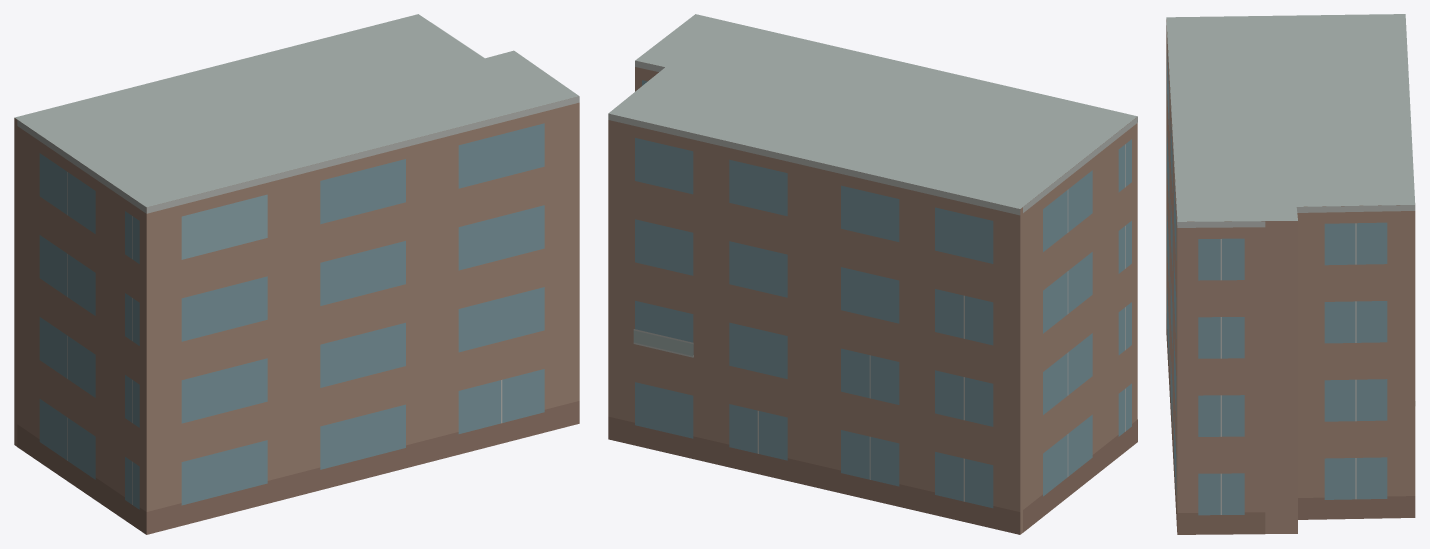
Rendered from survey-upis-32744336.glb.
3 views of the same model, side by side, from view 1: azimuth 30°, elevation 25°; view 2: azimuth 150°, elevation 25°; view 3: azimuth 270°, elevation 25° (orthographic). The views are drawn at different scales.
Parts seen in each view (by area): view 1: survey-upis-32744336.tmp; view 2: survey-upis-32744336.tmp; view 3: survey-upis-32744336.tmp.
Boxes of the visible parts, x1,y1,x2,y2 form: survey-upis-32744336.tmp: (14,14,579,534); survey-upis-32744336.tmp: (608,14,1137,534); survey-upis-32744336.tmp: (1166,14,1415,534).
Bounding box in the file's own units: 17.81 × 12.5 × 9.03.
